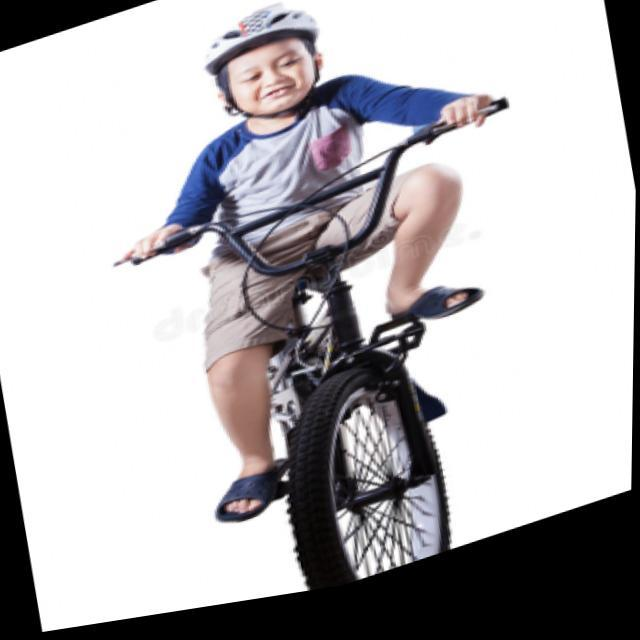Helmet: (202, 0, 328, 136)
